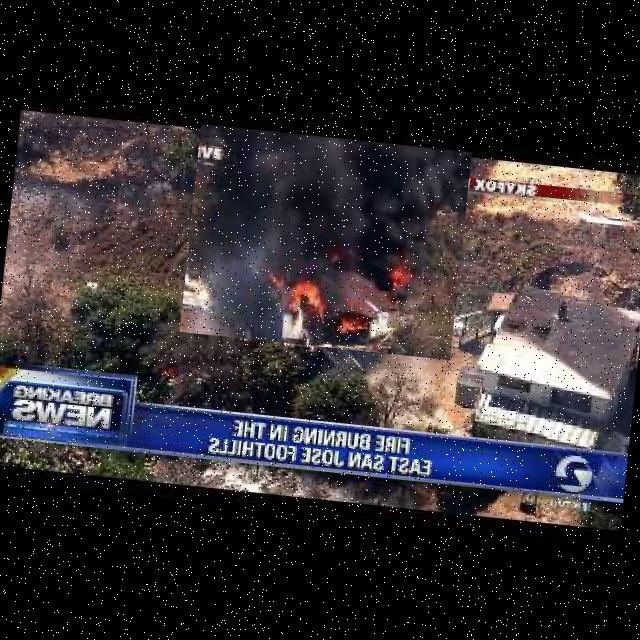fire: (179, 123, 472, 360)
